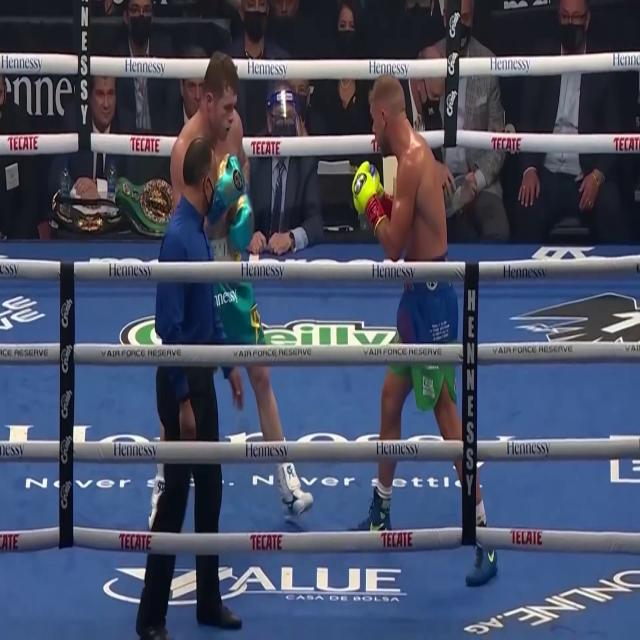boxer_1: (371, 75, 448, 260)
boxer_2: (170, 50, 249, 205), (207, 213, 229, 239)
gloves_1: (352, 160, 388, 231)
gloves_2: (207, 152, 254, 252)
